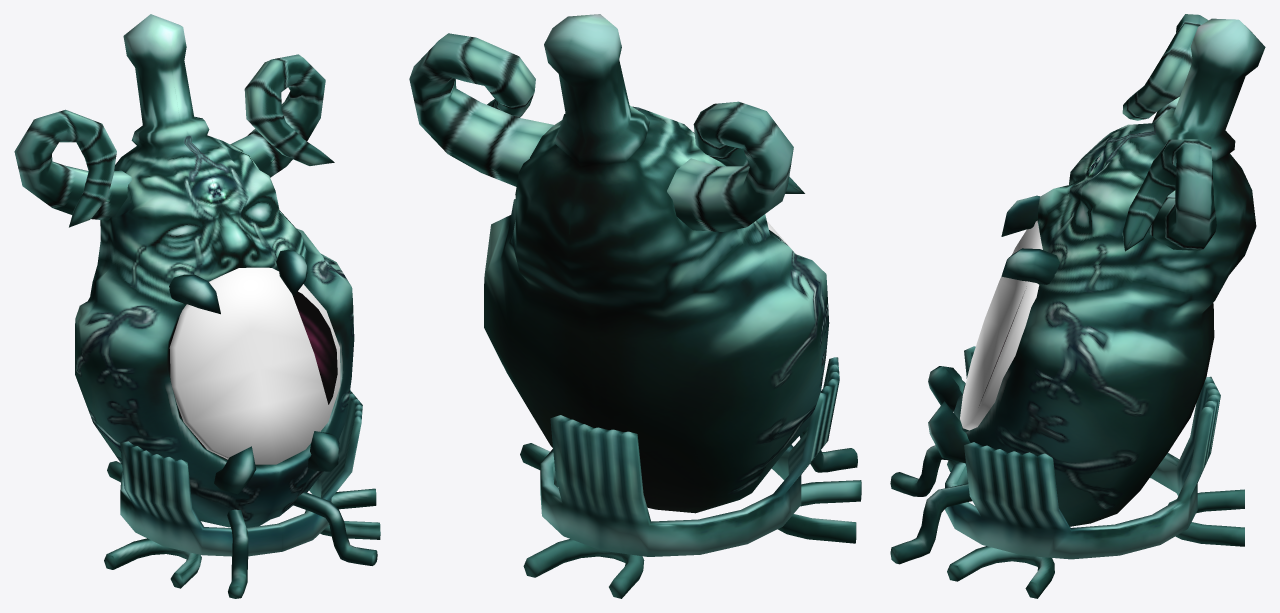
The model's file is Living Mirror.fbx.
3 renders of one model, left to right at view 1: azimuth 30°, elevation 25°; view 2: azimuth 150°, elevation 25°; view 3: azimuth 270°, elevation 25°, orthographic. The views are drawn at different scales.
Parts seen in each view (by area): view 1: Body, Mirror, Effect; view 2: Body; view 3: Body, Mirror.
Boxes of the visible parts, x1,y1,x2,y2 form: Body: [14, 14, 380, 598]; Mirror: [169, 267, 340, 464]; Effect: [292, 291, 337, 404]; Body: [409, 14, 861, 598]; Body: [890, 14, 1265, 598]; Mirror: [960, 220, 1042, 430].
Size of the model in its own units: 874 by 1251 by 839.
Materials: 3 (3 with a texture image).
